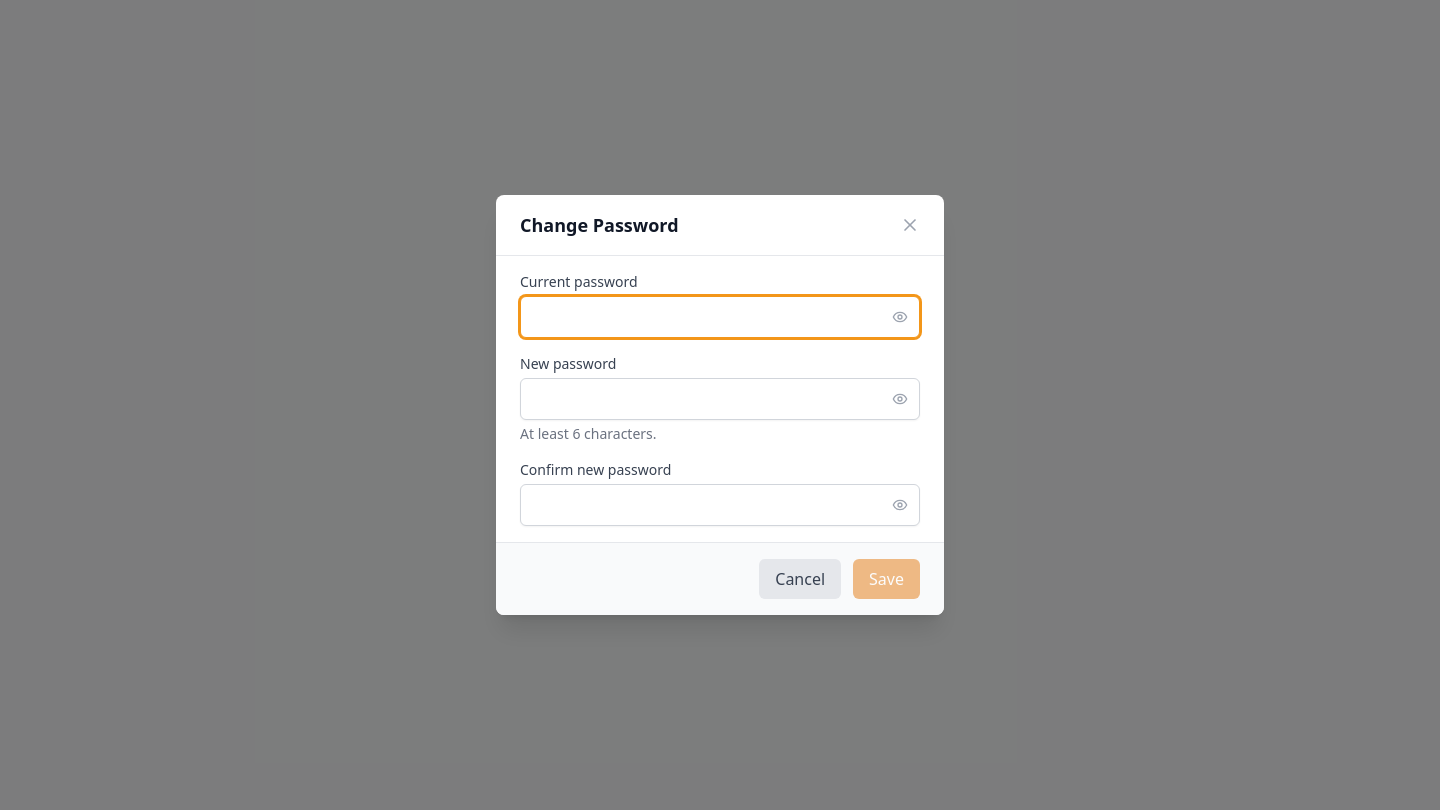
it: ChangePasswordModal › locks itself while the change runs
The image size is (1440, 810).
In the password field labelled "Current password": (720, 317) x1=520 y1=296 x2=920 y2=338, type "old-pass"
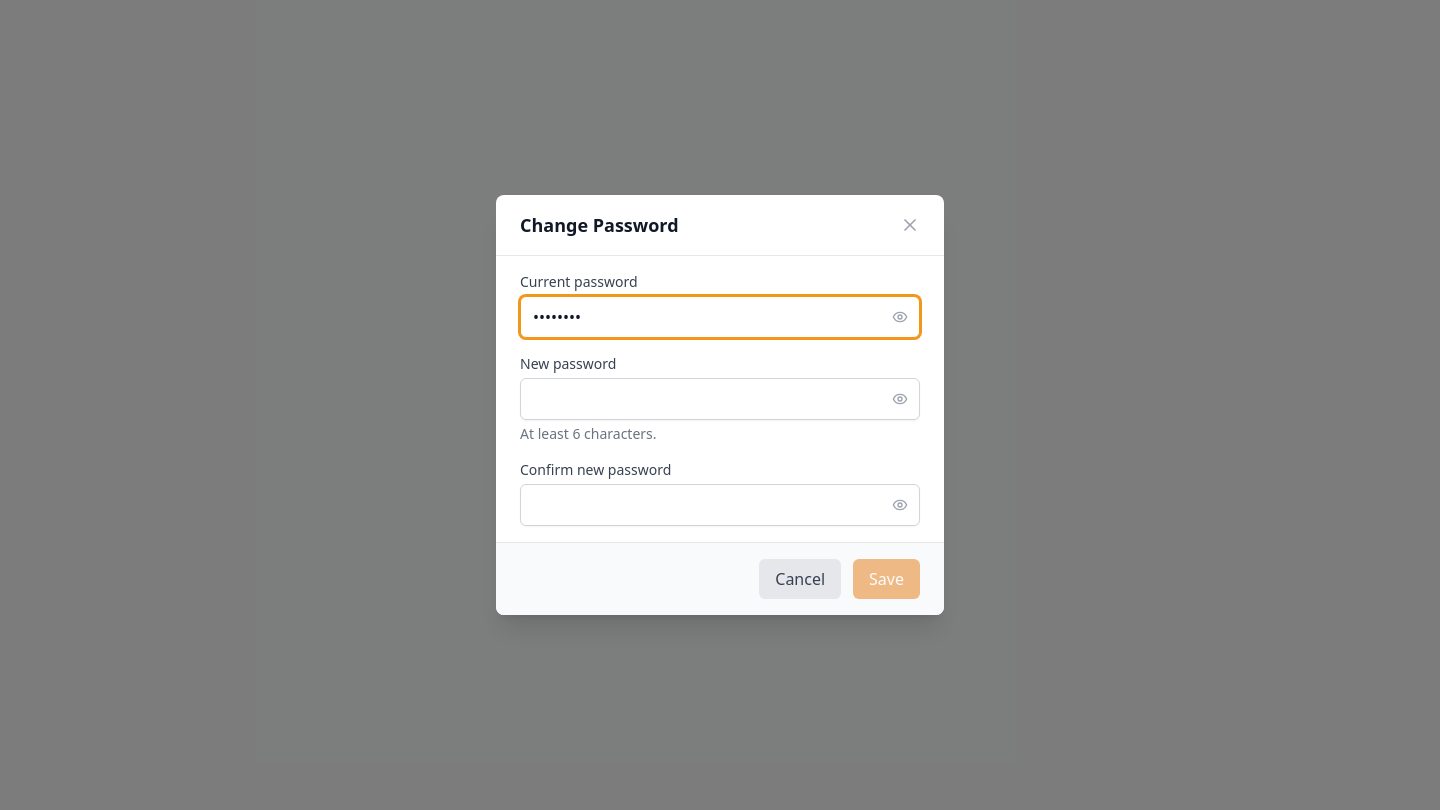
In the password field labelled "New password": (720, 399) x1=520 y1=378 x2=920 y2=420, type "new-pass"
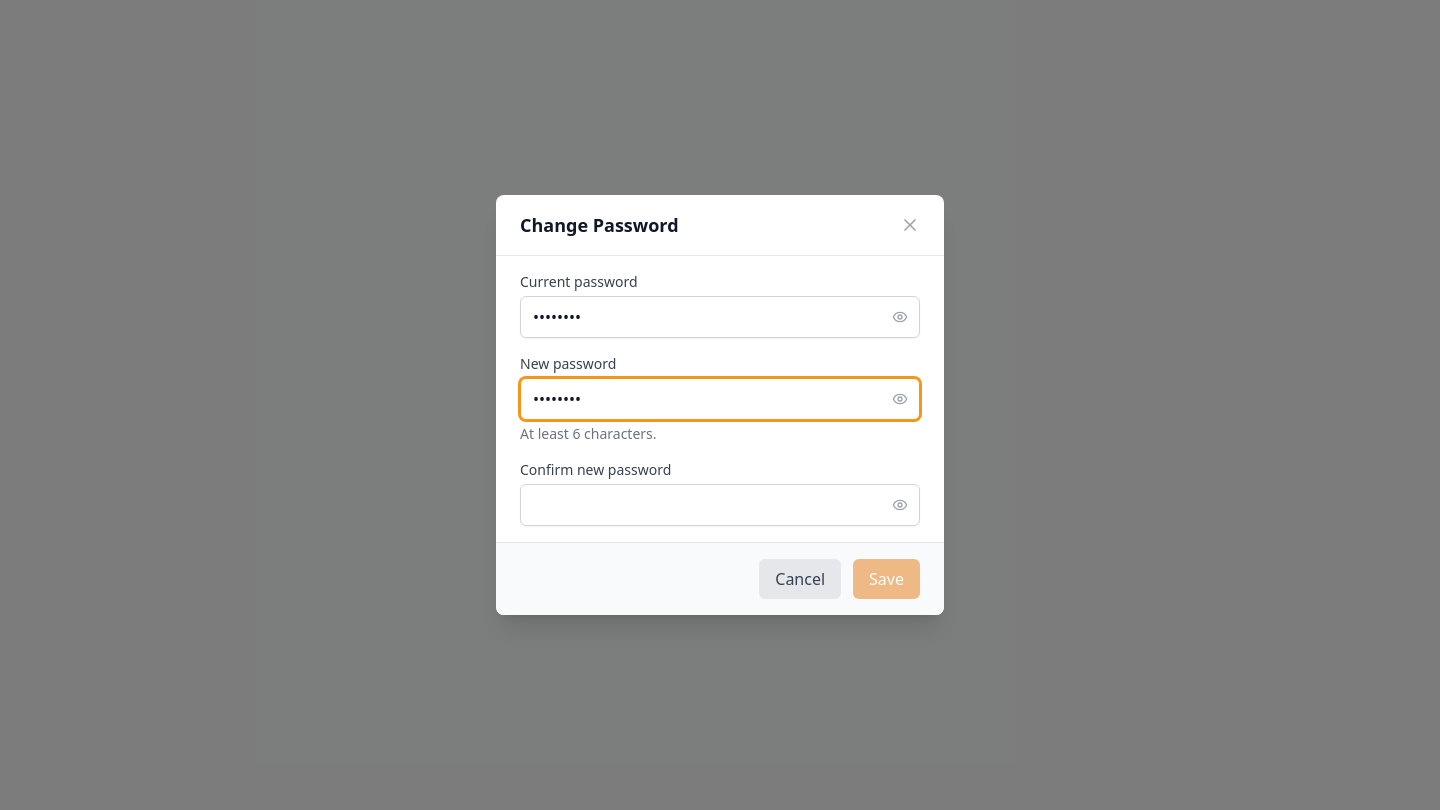
In the password field labelled "Confirm new password": (720, 505) x1=520 y1=484 x2=920 y2=526, type "new-pass"
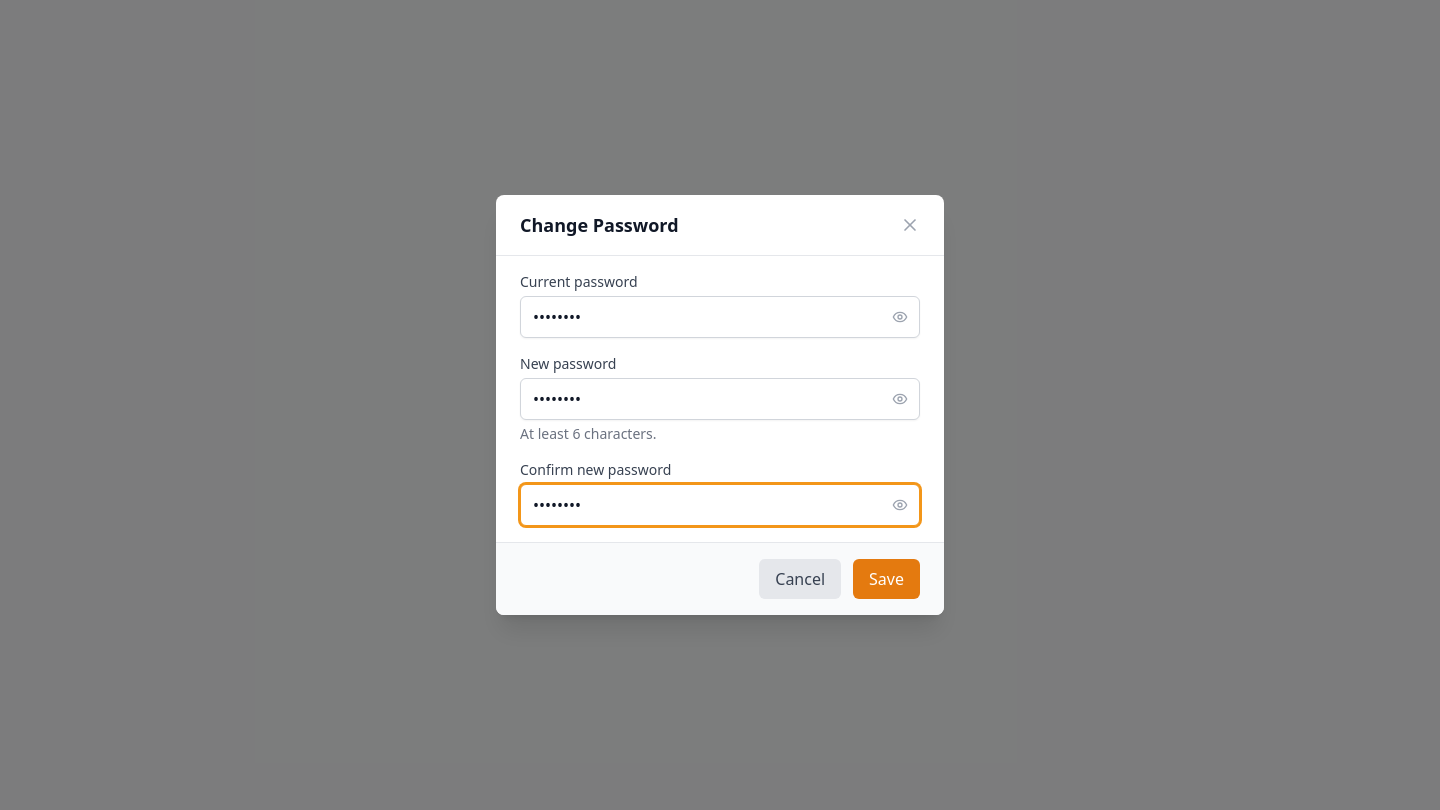
Click the button "Save": (887, 579) x1=853 y1=559 x2=920 y2=599
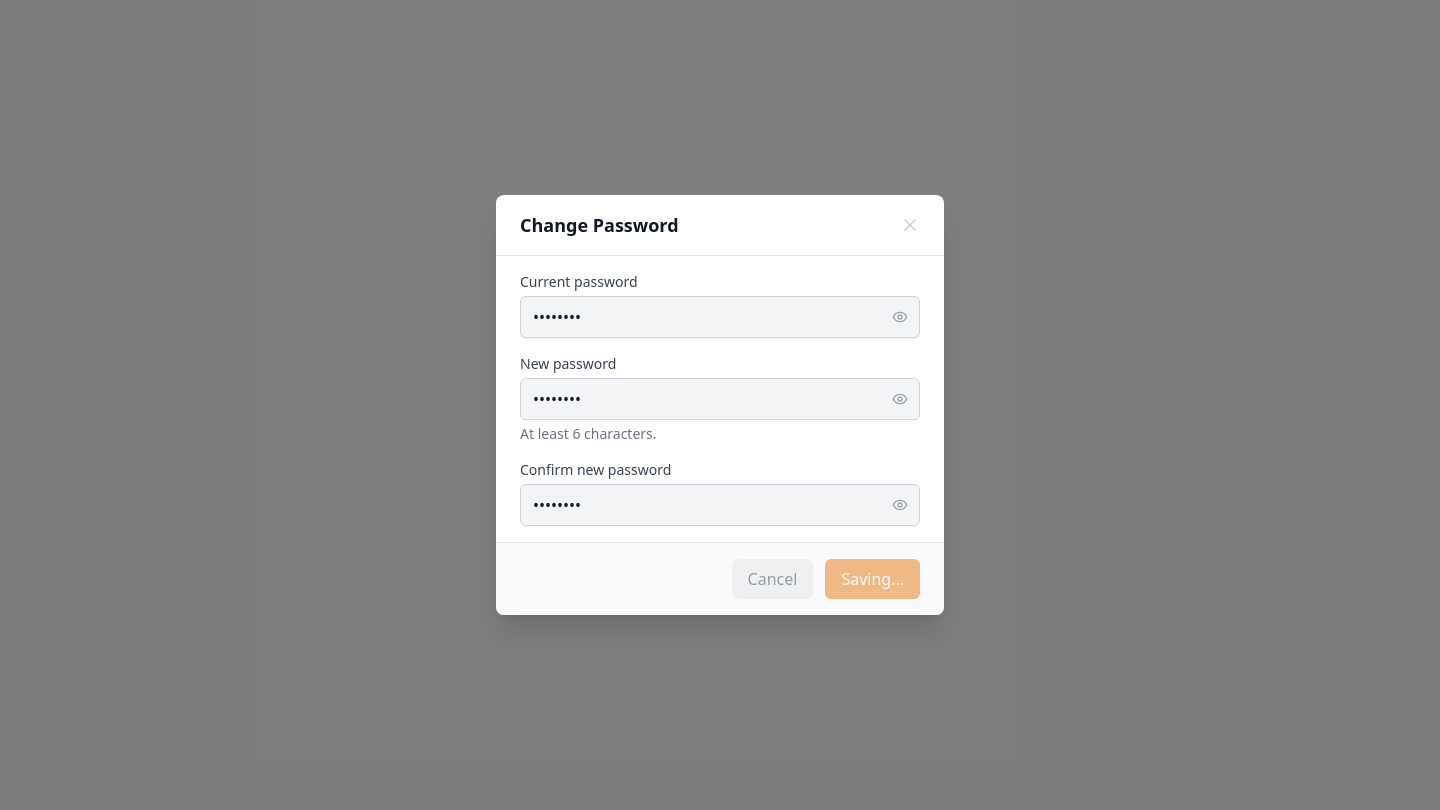
Expected: the password field labelled "Current password" is disabled, x1=520 y1=296 x2=920 y2=338
Expected: the button "Saving..." is disabled, x1=825 y1=559 x2=920 y2=599
Expected: the button "Cancel" is disabled, x1=732 y1=559 x2=813 y2=599
